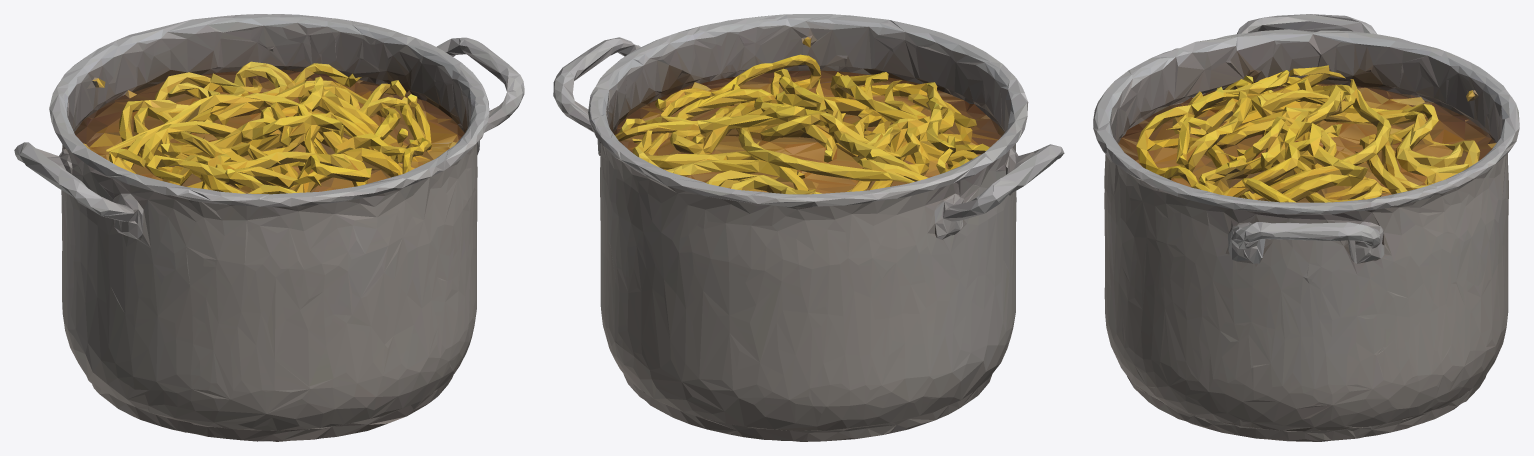
The model's file is pasta_boil.glb.
3 renders of one model, left to right at view 1: azimuth 30°, elevation 25°; view 2: azimuth 150°, elevation 25°; view 3: azimuth 270°, elevation 25°, orthographic. The views are drawn at different scales.
Parts seen in each view (by area): view 1: geometry_0; view 2: geometry_0; view 3: geometry_0.
Boxes of the visible parts, x1,y1,x2,y2 form: geometry_0: [14, 14, 524, 441]; geometry_0: [553, 14, 1064, 441]; geometry_0: [1093, 14, 1519, 441].
Bounding box in the file's own units: 0.26 × 0.1402 × 0.2159.
Materials: 1 (1 with a texture image).
